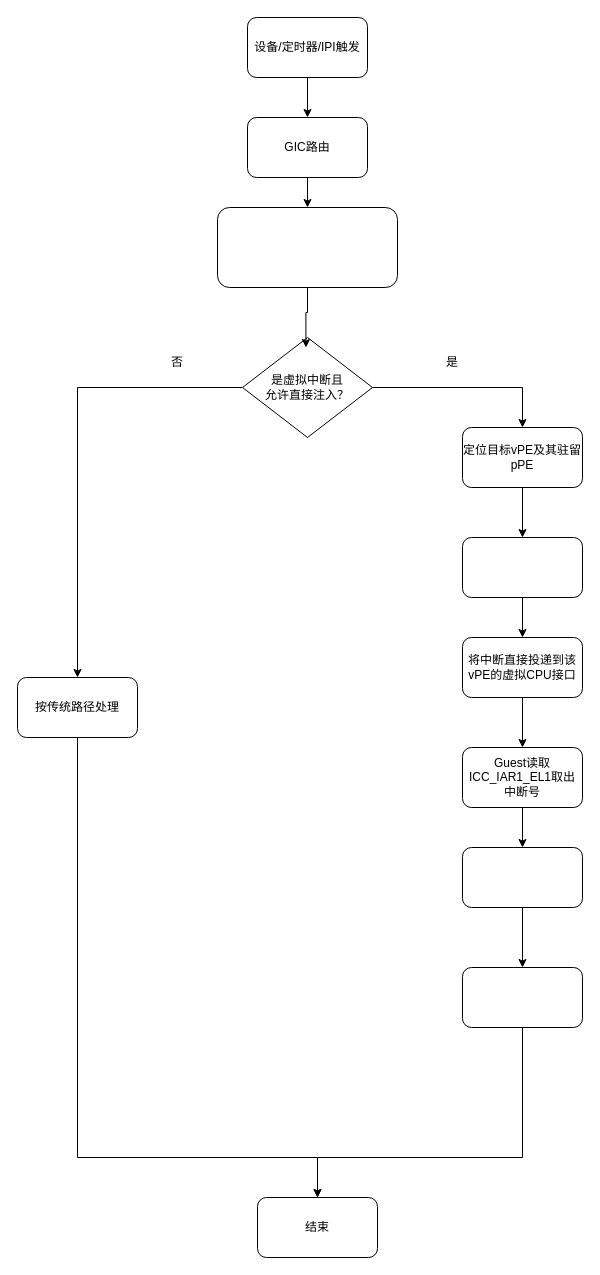
This 600x1275 diagram has some shape labels left out. The box of each missing label's shape, as (x1, y1, x2, y2) in pixels:
ITS/Distributor/Redistributor 确定目标: (216, 206, 398, 288)
修改vPE对应中断号的中断pending表: (462, 536, 582, 598)
执行中断服务程序（ISR）: (462, 846, 582, 908)
清除vPE的pending表状态: (462, 966, 582, 1028)
